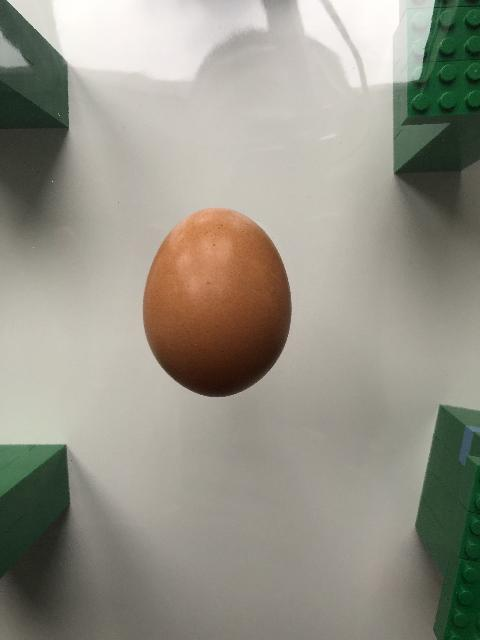Sano: (141, 206, 293, 398)
